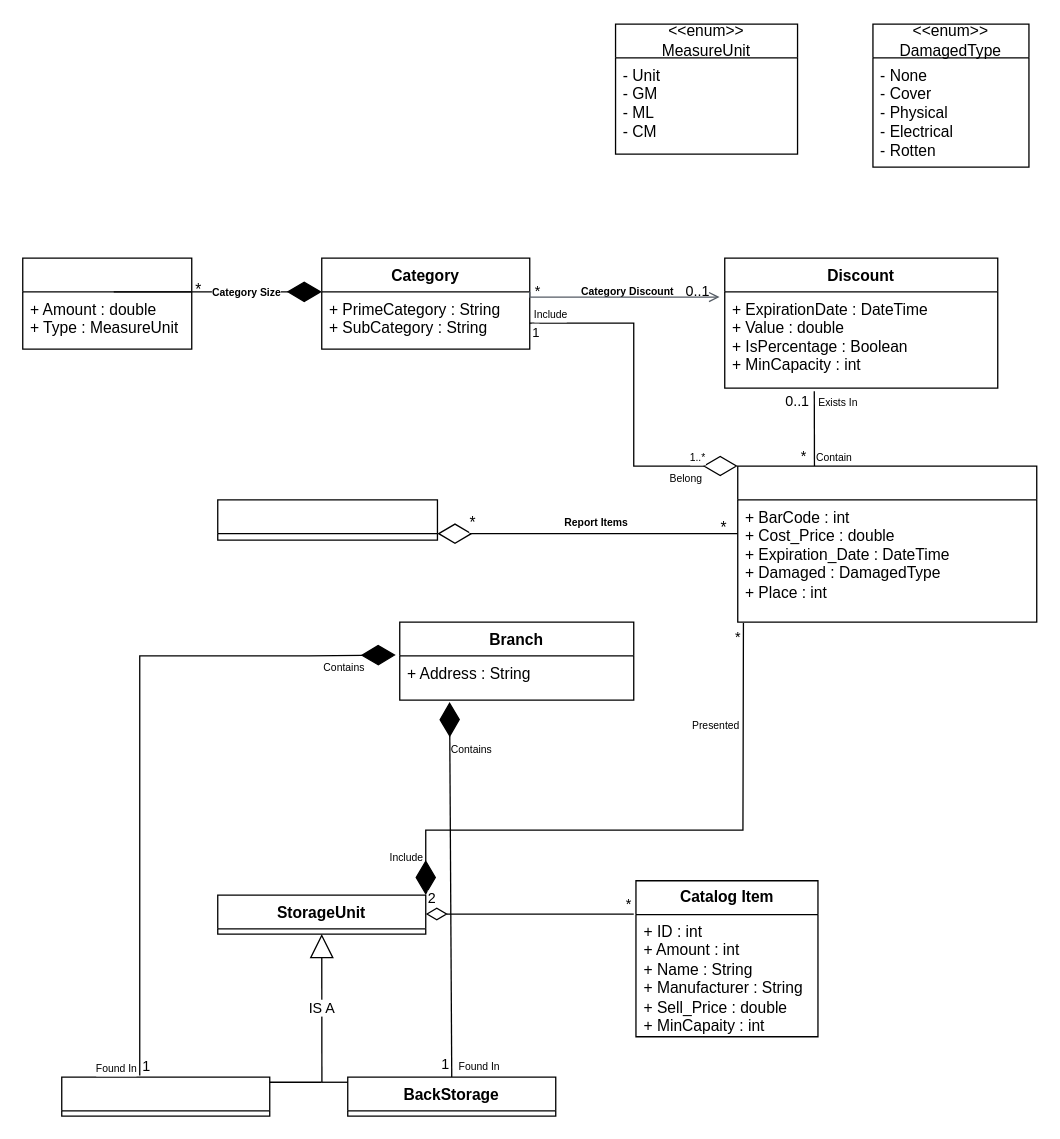
Some shapes in this 1060 by 1139 pixel diagram are drawn without their labels. The box of each missing label's shape, as (x1, y1, x2, y2) in pixels:
Item: (736, 465, 1037, 622)
Report: (216, 499, 437, 540)
Size: (21, 257, 192, 349)
StoreShelves: (60, 1076, 270, 1116)
